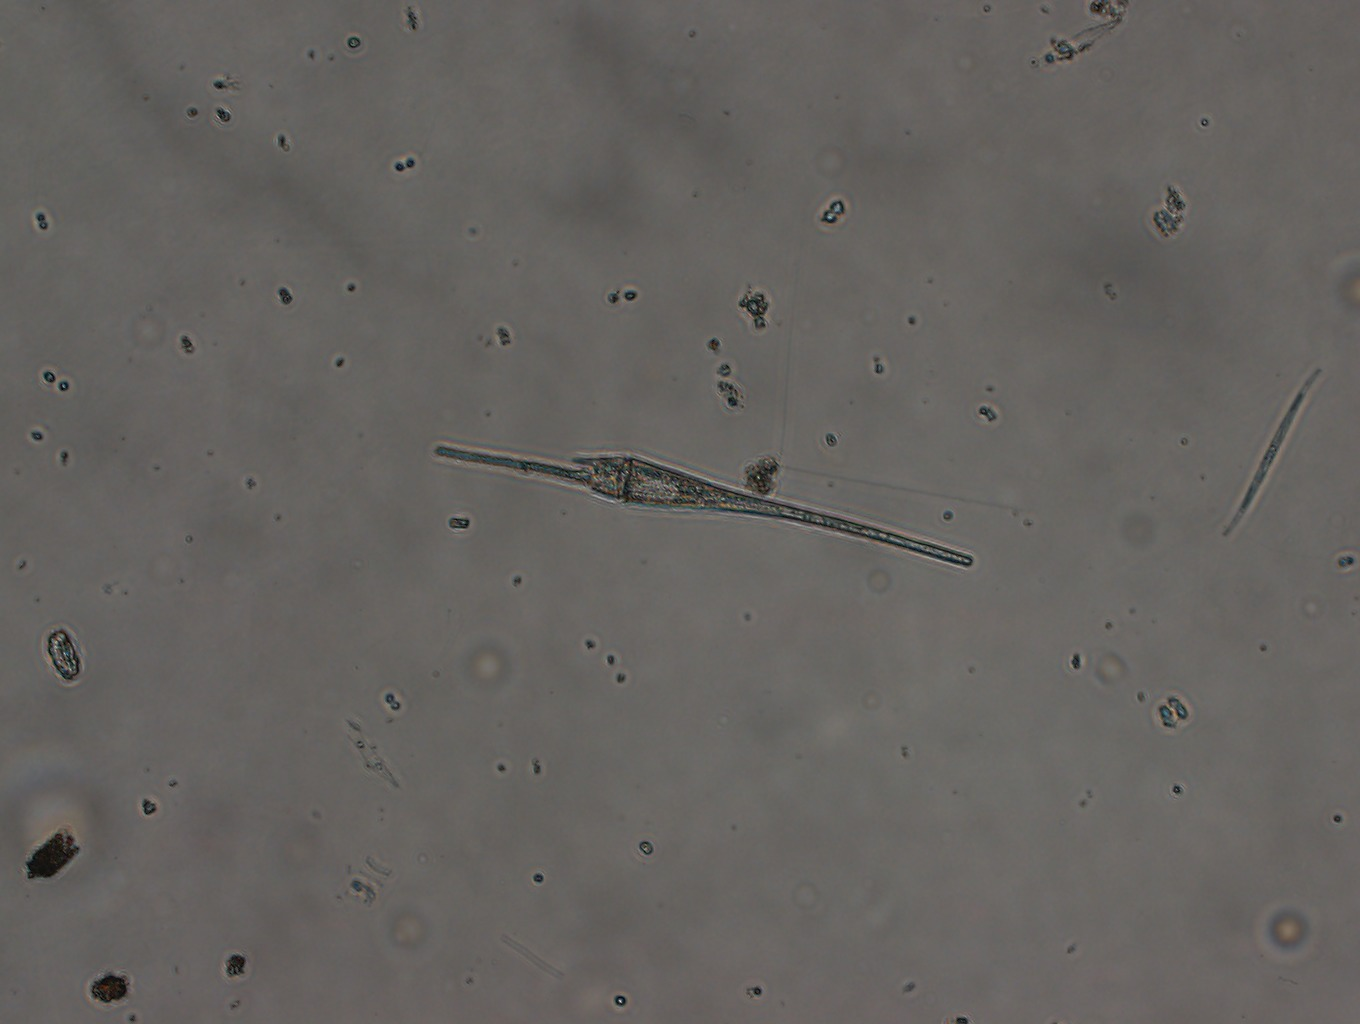ceratium fusus: (428, 440, 976, 567)
